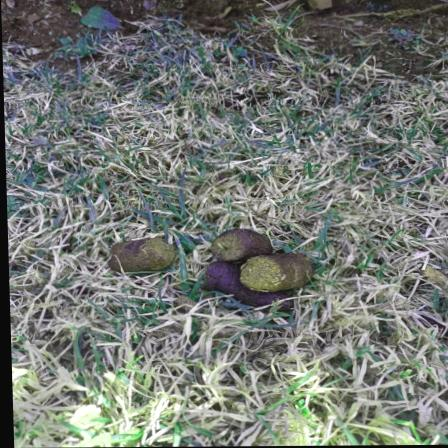dog-poop: (193, 225, 313, 313), (104, 236, 169, 276)
